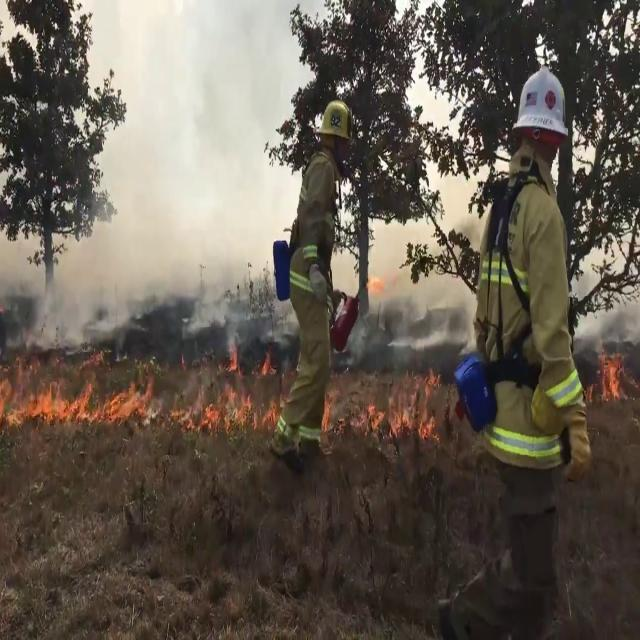Fire: (1, 340, 284, 432), (0, 349, 164, 428), (386, 354, 444, 442), (594, 338, 628, 404)
Smoke: (23, 0, 290, 346)
